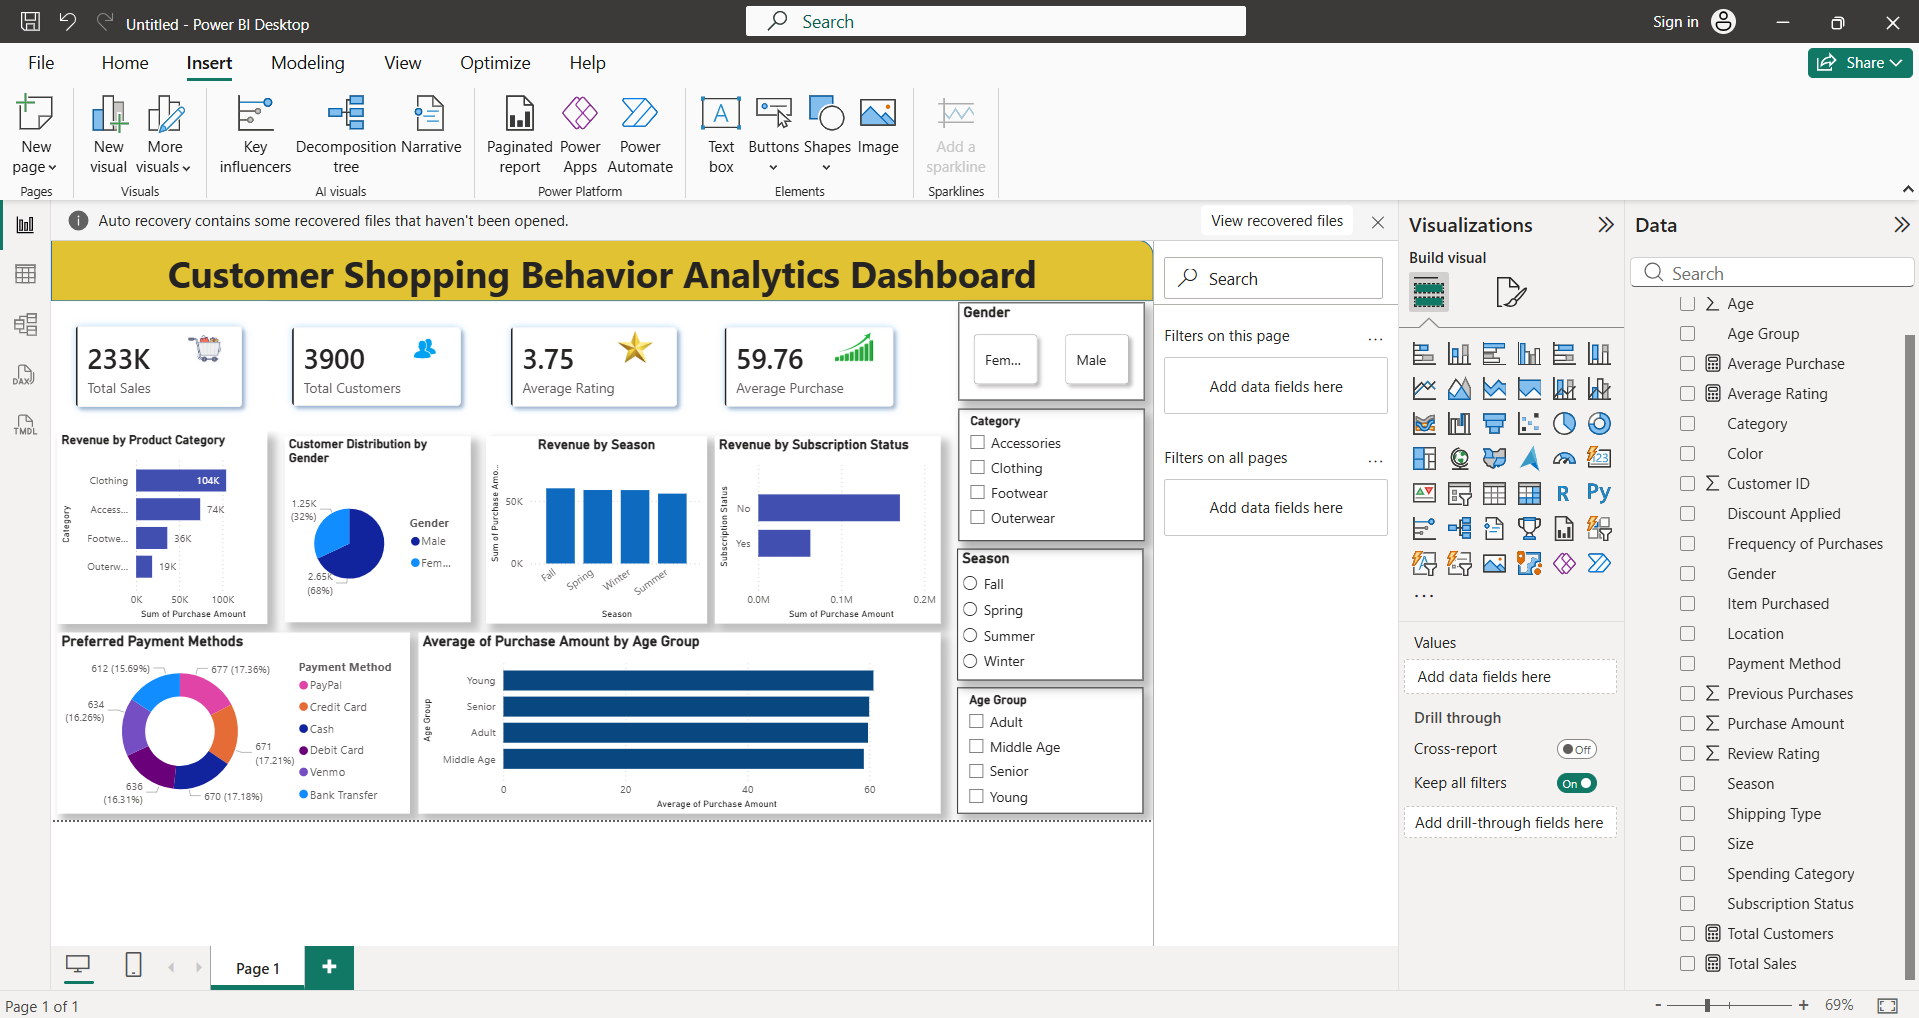

What the dashboard file says about the page in this screenshot:
{"tool":"powerbi","page":{"name":"Page 1","canvas":[1280,720],"ordinal":0},"visuals":[{"type":"shape","box":[0,46.5,1280.3,71.1],"z":0},{"type":"textbox","box":[0,50.8,1280.3,85.6],"z":1000},{"type":"clusteredBarChart","title":"Revenue by Product Category","fields":{"Category":["cleaned_customer_data.Category"],"Y":["Sum(cleaned_customer_data.Purchase Amount)"]},"box":[7.3,270,243.9,222.1],"z":2000},{"type":"cardVisual","fields":{"Data":["cleaned_customer_data.Total Sales"]},"box":[0,117.6,251.1,152.4],"z":3000},{"type":"cardVisual","fields":{"Data":["cleaned_customer_data.Total Customers"]},"box":[251.1,119,254,149.5],"z":4000},{"type":"cardVisual","fields":{"Data":["cleaned_customer_data.Average Purchase"]},"box":[753.4,119,254,151],"z":5000},{"type":"cardVisual","fields":{"Data":["cleaned_customer_data.Average Rating"]},"box":[505.2,119,251.1,151],"z":6000},{"type":"pieChart","title":"Customer Distribution by Gender","fields":{"Category":["cleaned_customer_data.Gender"],"Y":["CountNonNull(cleaned_customer_data.Customer ID)"]},"box":[268.5,275.8,222.1,216.3],"z":7000},{"type":"clusteredColumnChart","title":"Revenue by Season","fields":{"Category":["cleaned_customer_data.Season"],"Y":["Sum(cleaned_customer_data.Purchase Amount)"]},"box":[505.2,274.3,256.9,217.7],"z":8000},{"type":"clusteredBarChart","title":"Revenue by Subscription Status","fields":{"Category":["cleaned_customer_data.Subscription Status"],"Y":["Sum(cleaned_customer_data.Purchase Amount)"]},"box":[770.8,274.3,262.7,217.7],"z":9000},{"type":"donutChart","title":"Preferred Payment Methods","fields":{"Category":["cleaned_customer_data.Payment Method"],"Y":["CountNonNull(cleaned_customer_data.Customer ID)"]},"box":[7.3,502.2,409.3,210.5],"z":10000},{"type":"clusteredBarChart","fields":{"Category":["cleaned_customer_data.Age Group"],"Y":["Avg(cleaned_customer_data.Purchase Amount)"]},"box":[426.8,502.2,606.8,210.5],"z":11000},{"type":"advancedSlicerVisual","fields":{"Values":["cleaned_customer_data.Gender"]},"box":[1053.8,119,216.3,113.2],"z":12000},{"type":"slicer","fields":{"Values":["cleaned_customer_data.Category"]},"box":[1053.8,242.4,216.3,153.9],"z":13000},{"type":"listSlicer","fields":{"Values":["cleaned_customer_data.Season"]},"box":[1052.4,405,216.3,152.4],"z":14000},{"type":"slicer","fields":{"Values":["cleaned_customer_data.Age Group"]},"box":[1052.4,566.1,216.3,146.6],"z":15000},{"type":"image","box":[651.8,151,53.7,39.2],"z":16000},{"type":"image","box":[156.8,151,43.5,39.2],"z":17000},{"type":"image","box":[901.4,151,62.4,39.2],"z":18000},{"type":"image","box":[409.3,151,49.4,43.5],"z":19000}]}

Visuals, with their boxes on the page's 1280x720 design canvas (x1, y1, x2, y2). These are canvas units, not pixel positions in the 1919x1018 screenshot, which may show the page scaled, cropped or inside an application window:
shape: select_region(0, 46, 1280, 118)
textbox: select_region(0, 51, 1280, 136)
"Revenue by Product Category" clusteredBarChart: select_region(7, 270, 251, 492)
cardVisual - cleaned_customer_data.Total Sales: select_region(0, 118, 251, 270)
cardVisual - cleaned_customer_data.Total Customers: select_region(251, 119, 505, 268)
cardVisual - cleaned_customer_data.Average Purchase: select_region(753, 119, 1007, 270)
cardVisual - cleaned_customer_data.Average Rating: select_region(505, 119, 756, 270)
"Customer Distribution by Gender" pieChart: select_region(268, 276, 491, 492)
"Revenue by Season" clusteredColumnChart: select_region(505, 274, 762, 492)
"Revenue by Subscription Status" clusteredBarChart: select_region(771, 274, 1034, 492)
"Preferred Payment Methods" donutChart: select_region(7, 502, 417, 713)
clusteredBarChart - cleaned_customer_data.Age Group x Avg(cleaned_customer_data.Purchase Amount): select_region(427, 502, 1034, 713)
advancedSlicerVisual - cleaned_customer_data.Gender: select_region(1054, 119, 1270, 232)
slicer - cleaned_customer_data.Category: select_region(1054, 242, 1270, 396)
listSlicer - cleaned_customer_data.Season: select_region(1052, 405, 1269, 557)
slicer - cleaned_customer_data.Age Group: select_region(1052, 566, 1269, 713)
image: select_region(652, 151, 706, 190)
image: select_region(157, 151, 200, 190)
image: select_region(901, 151, 964, 190)
image: select_region(409, 151, 459, 194)
